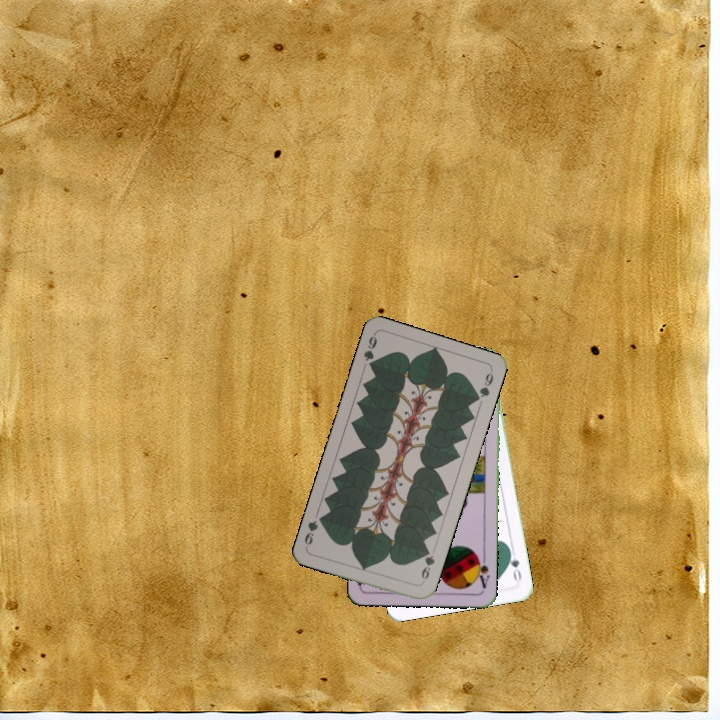G9: (360, 330, 380, 372), (417, 545, 437, 586)
GO: (504, 545, 524, 585)
SA: (472, 551, 492, 591)
